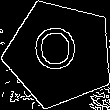O_S: (36, 27, 83, 81)
